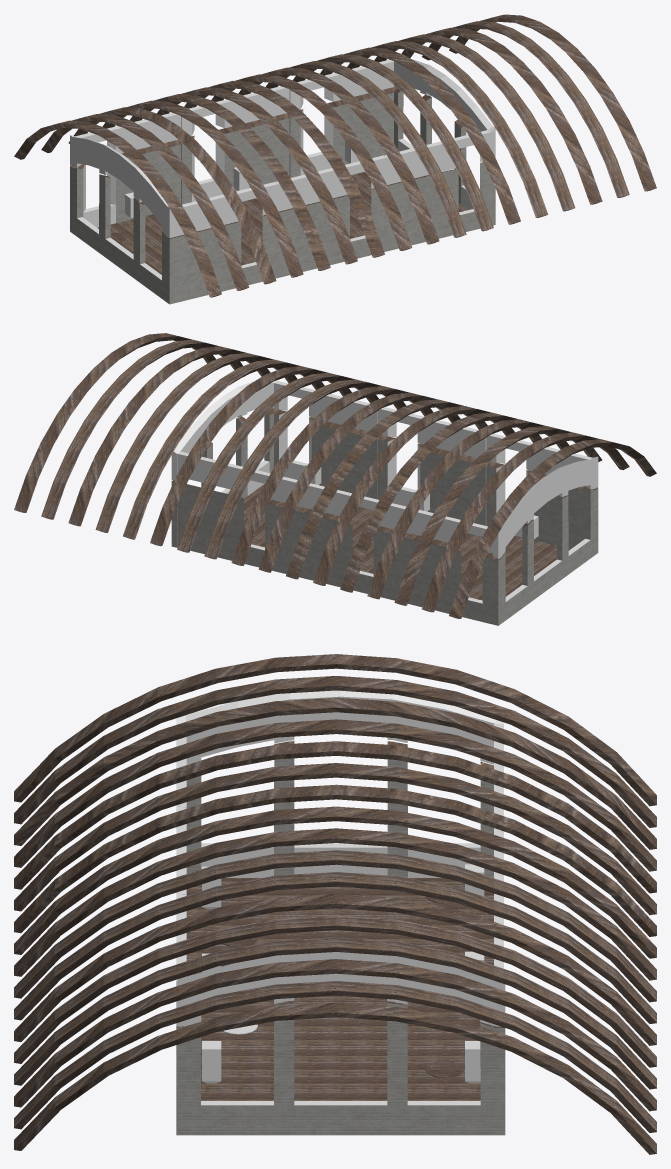
The model's file is fashion-environment-arced.fbx.
The picture shows the model from 3 angles, top to bottom: view 1: azimuth 30°, elevation 25°; view 2: azimuth 150°, elevation 25°; view 3: azimuth 270°, elevation 25°; orthographic projection. The views are drawn at different scales.
Visible parts, largest first — view 1: wood, brick, drywall, wood.001; view 2: wood, brick, drywall, wood.001; view 3: wood, brick, drywall.
Part boxes in pixels (box(x1,y1,x2,y2)): wood: box(14, 14, 656, 297); brick: box(70, 91, 495, 304); drywall: box(70, 59, 495, 279); wood.001: box(70, 87, 483, 238); wood: box(14, 333, 656, 618); brick: box(171, 413, 598, 625); drywall: box(171, 380, 598, 603); wood.001: box(172, 408, 597, 560); wood: box(14, 654, 656, 1154); brick: box(176, 758, 505, 1135); drywall: box(176, 690, 505, 1105).
Bounding box in the file's own units: 1646 × 455 × 1247.
